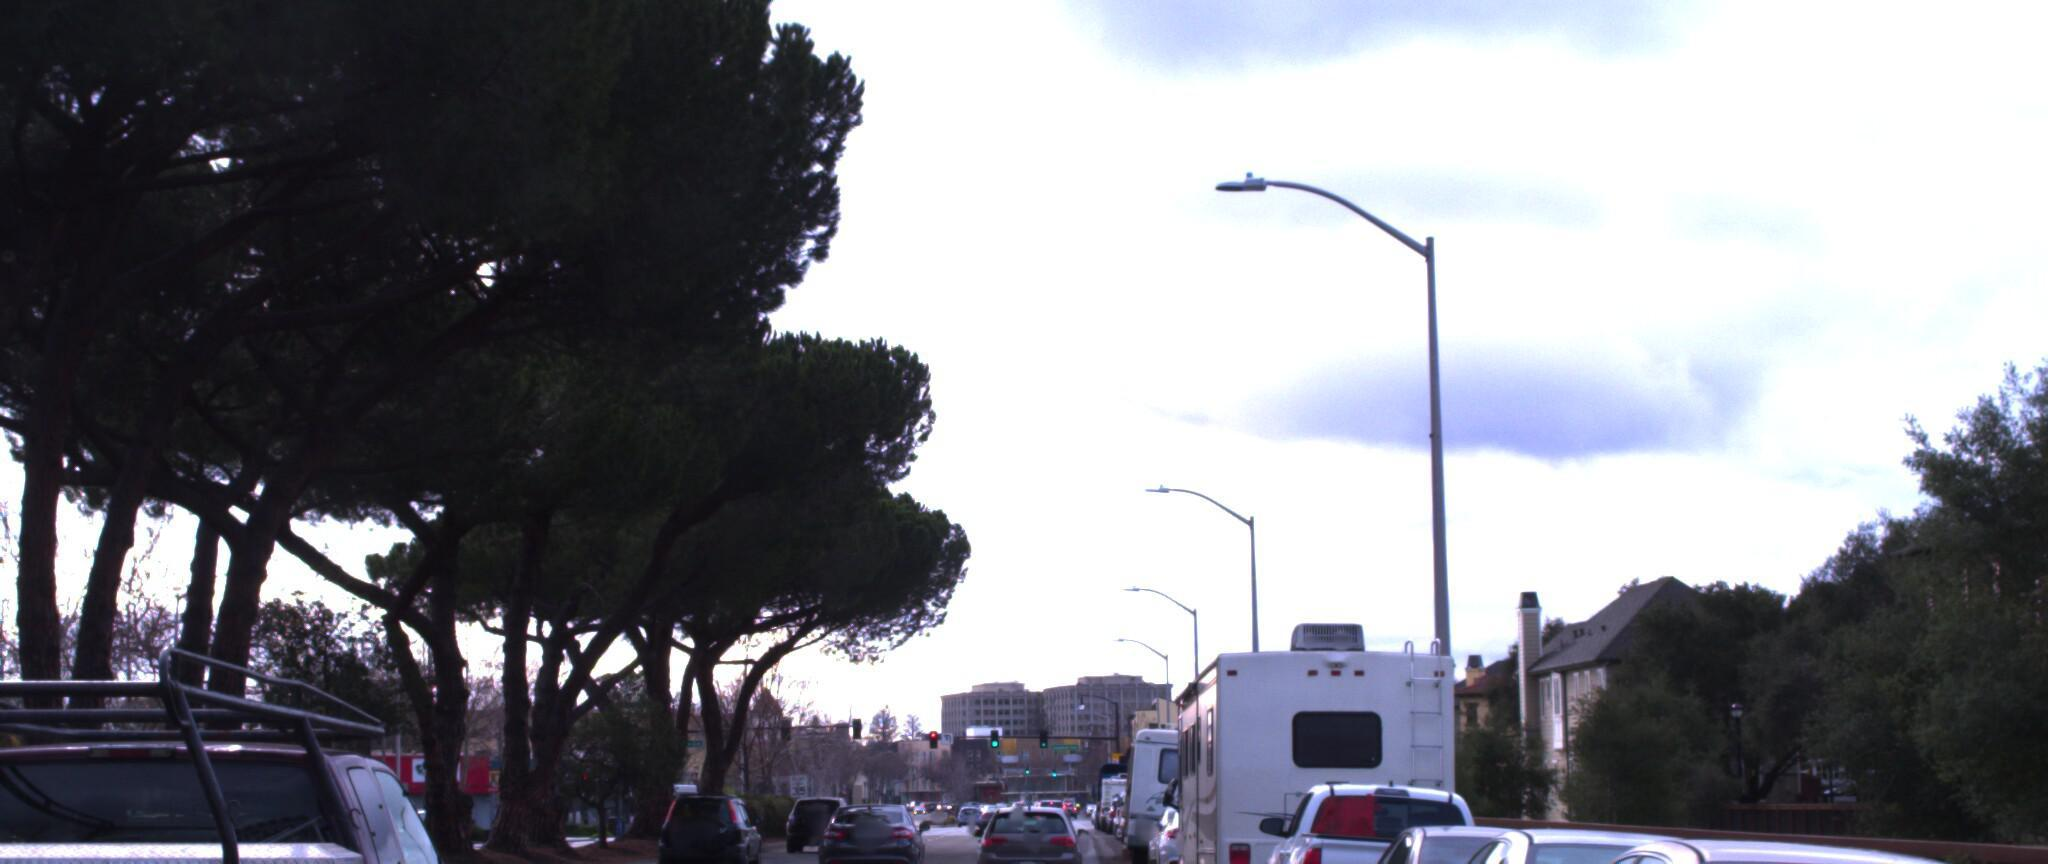car: (0, 647, 525, 864), (1377, 804, 1851, 864), (1256, 770, 1516, 864), (1452, 826, 2048, 864), (1324, 807, 1660, 864), (650, 783, 765, 864), (811, 790, 925, 864), (967, 799, 1081, 864), (1704, 844, 2048, 864)
other_vehicle: (1136, 713, 1266, 864)
truck: (1159, 632, 1467, 864)
